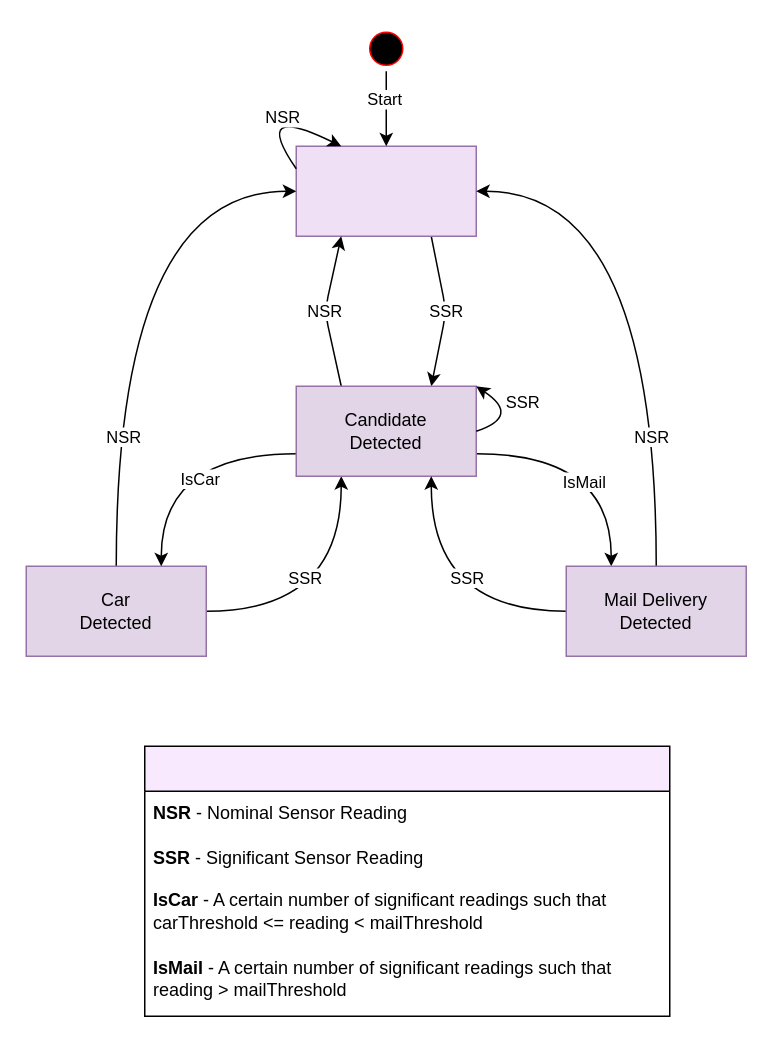
The diagram is 773 pixels wide and 1043 high, and some of its shapes have lost their labels. The shapes that lost their labels are listed below. From the top down, each one's box as (x1, y1, x2, y2) in pixels, then its label:
(295, 145, 476, 236): Nothing Detected
(143, 745, 670, 1016): Events
